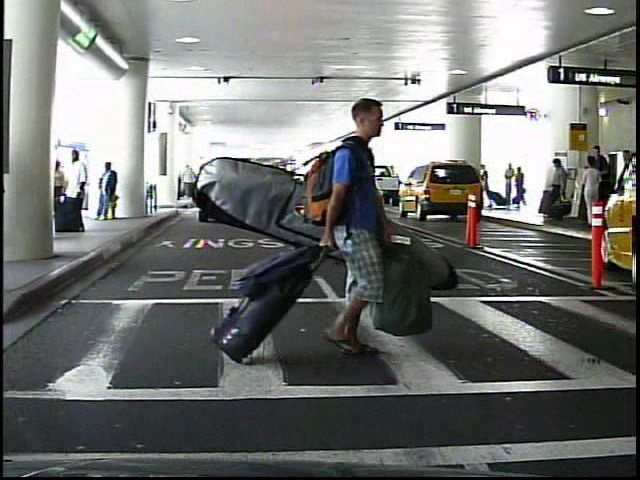person: (308, 88, 410, 371), (62, 146, 91, 235), (576, 155, 601, 228), (92, 161, 119, 227), (546, 157, 570, 224), (587, 143, 605, 221), (502, 162, 516, 209), (512, 163, 523, 207), (479, 161, 489, 209)
